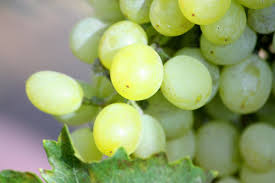Green grapes: (156, 51, 218, 112), (108, 38, 166, 101)
